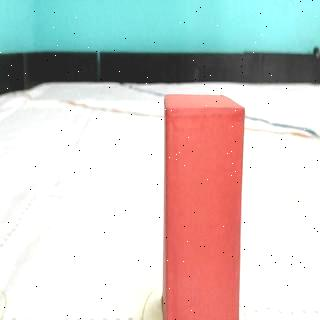redbox: (162, 95, 238, 320)
